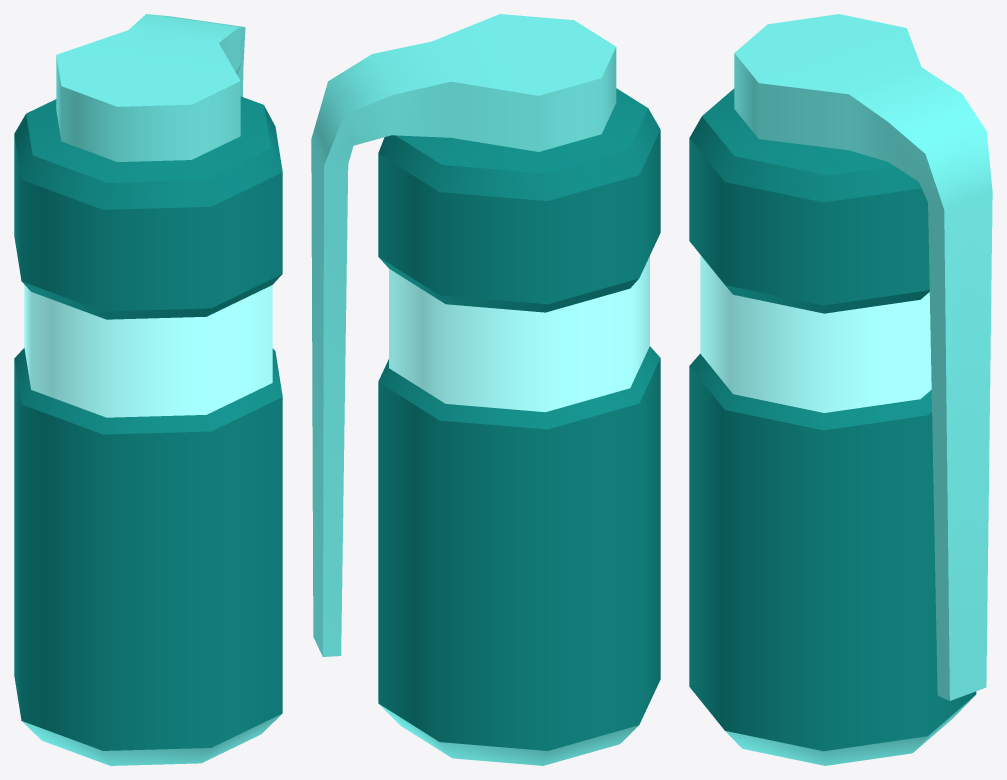
Rendered from Granate_Green.glb.
3 views of the same model, side by side, from view 1: azimuth 30°, elevation 25°; view 2: azimuth 150°, elevation 25°; view 3: azimuth 270°, elevation 25° (orthographic).
Parts seen in each view (by area): view 1: Granate_Green_2.001; view 2: Granate_Green_2.001; view 3: Granate_Green_2.001.
Part boxes in pixels (box(x1,y1,x2,y2)): Granate_Green_2.001: box(14, 14, 282, 765); Granate_Green_2.001: box(311, 14, 660, 765); Granate_Green_2.001: box(689, 14, 992, 765).
Size of the model in its own units: 0.2738 by 0.625 by 0.2604.
Materials: 1 (1 with a texture image).
